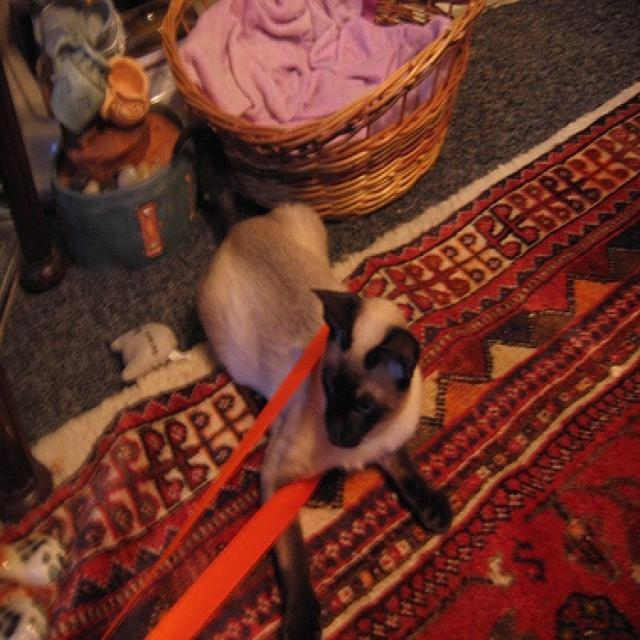cat: (195, 196, 454, 638)
